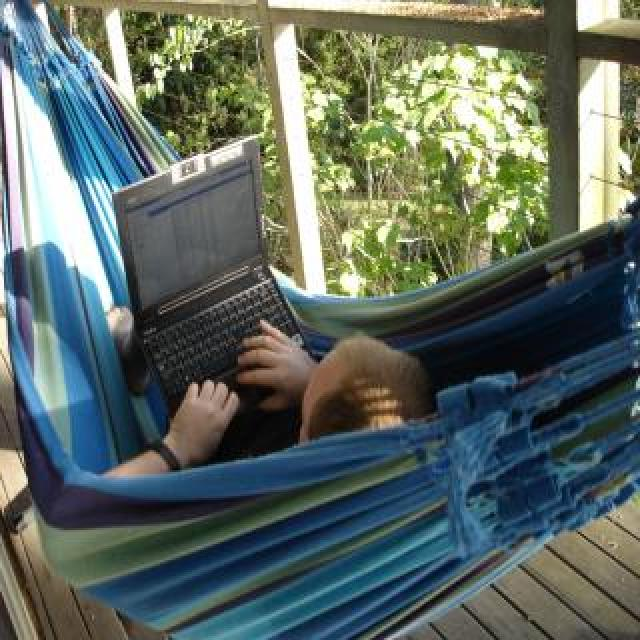laptop_computer: (89, 129, 354, 420)
